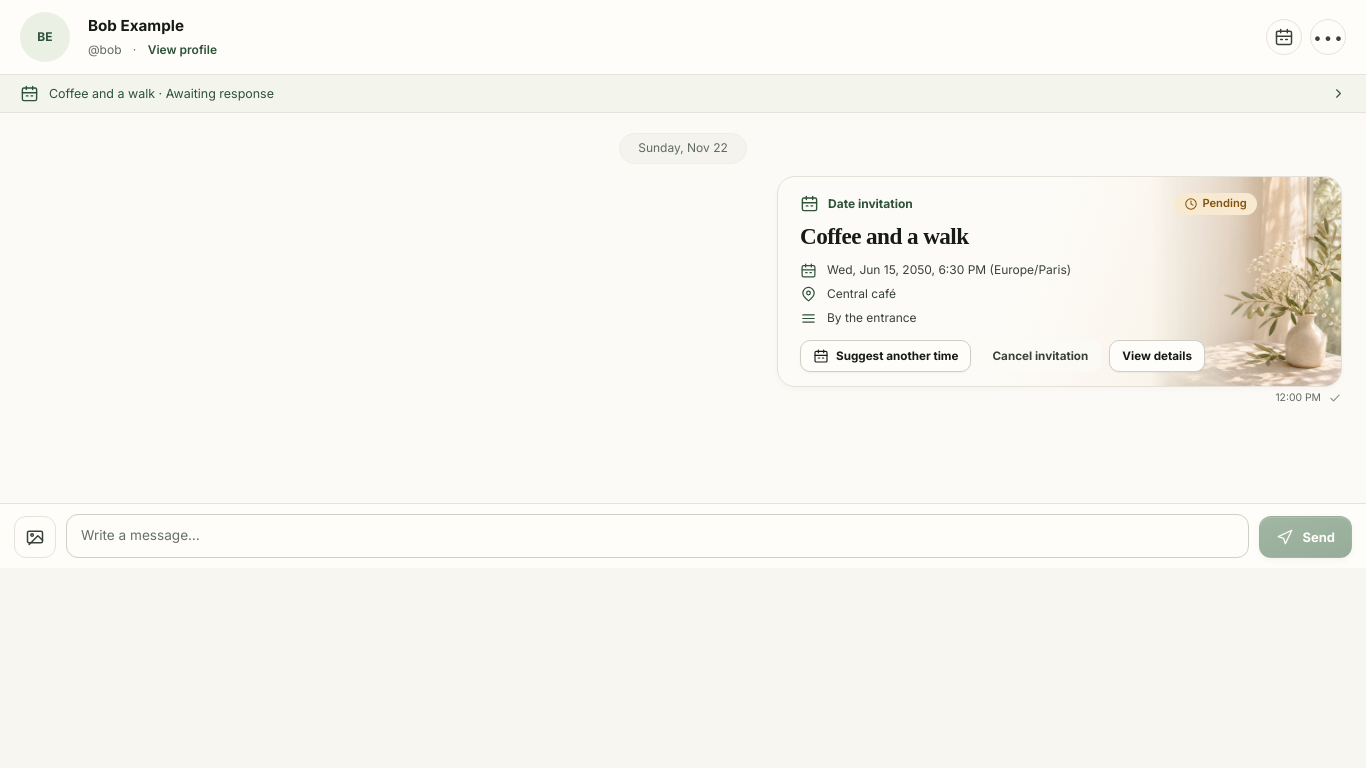
Test case: inline proposal cancel uses the correct current version and workflow
The image size is (1366, 768).
Click the button "Cancel invitation" at (1040, 356), box 980,340 -> 1101,372
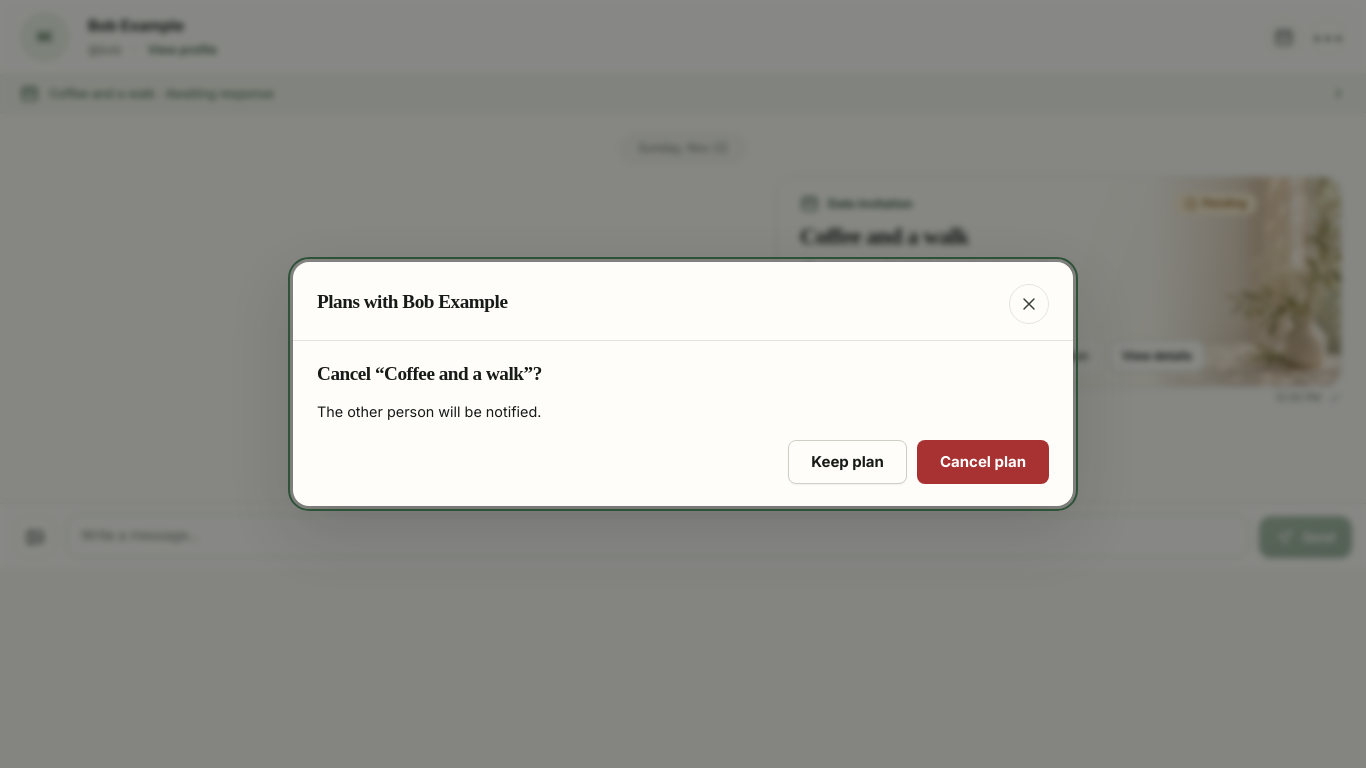
Expected: the heading "Cancel “Coffee and a walk”?" is shown, 317,363 -> 542,384
